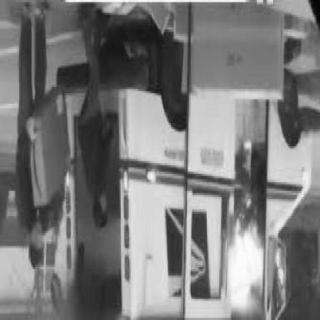Fire: (221, 221, 274, 313)
